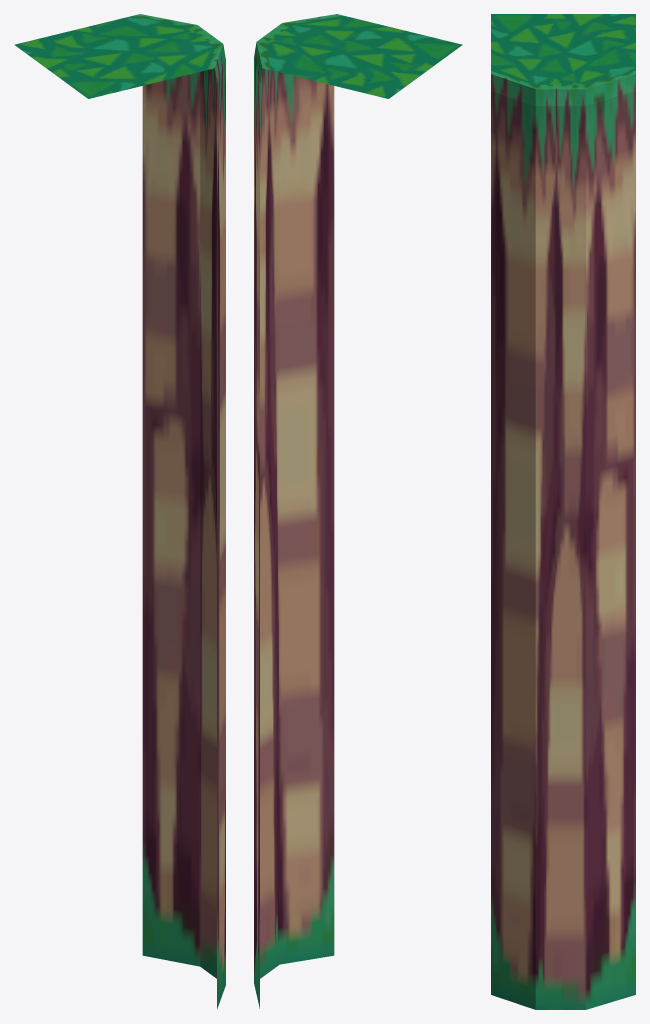
The model's file is GenericWall.fbx.
The picture shows the model from 3 angles, left to right: view 1: azimuth 30°, elevation 25°; view 2: azimuth 150°, elevation 25°; view 3: azimuth 270°, elevation 25°; orthographic projection. The views are drawn at different scales.
Visible parts, largest first — view 1: Cube.001; view 2: Cube.001; view 3: Cube.001.
Boxes of the visible parts, x1=… form: Cube.001: x1=14, y1=14, x2=225, y2=1009; Cube.001: x1=254, y1=14, x2=462, y2=1008; Cube.001: x1=491, y1=14, x2=635, y2=1009.
Bounding box in the file's own units: 125 × 700 × 100.
Materials: 1 (1 with a texture image).
